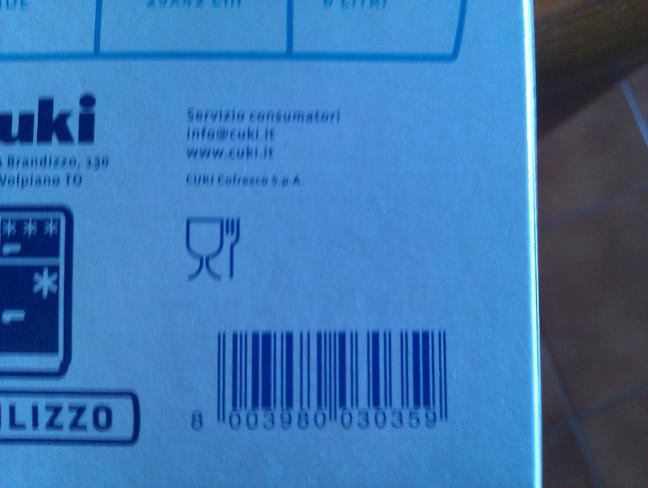Barkod: (165, 306, 464, 454)
